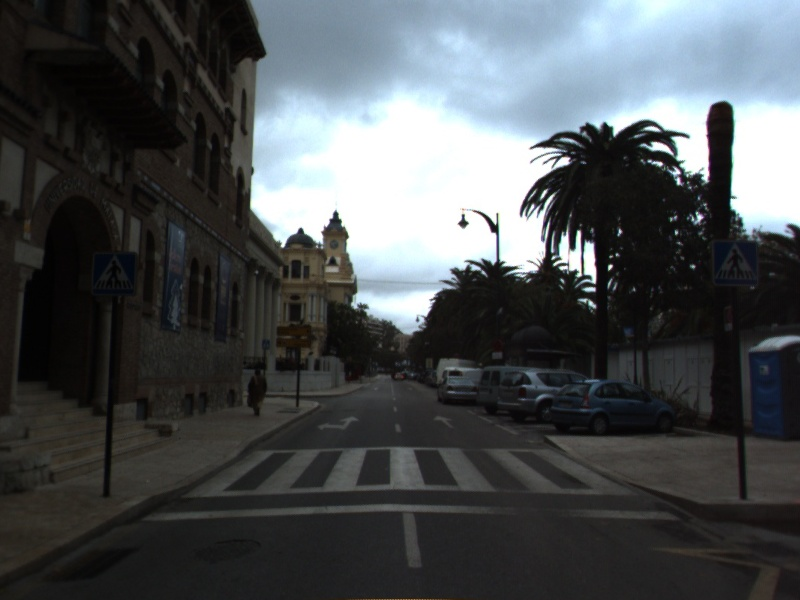STRAIGHT: (431, 413, 457, 431)
STRAIGHT_LEFT: (315, 414, 362, 433)
